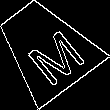M_NW: (11, 14, 81, 82)
